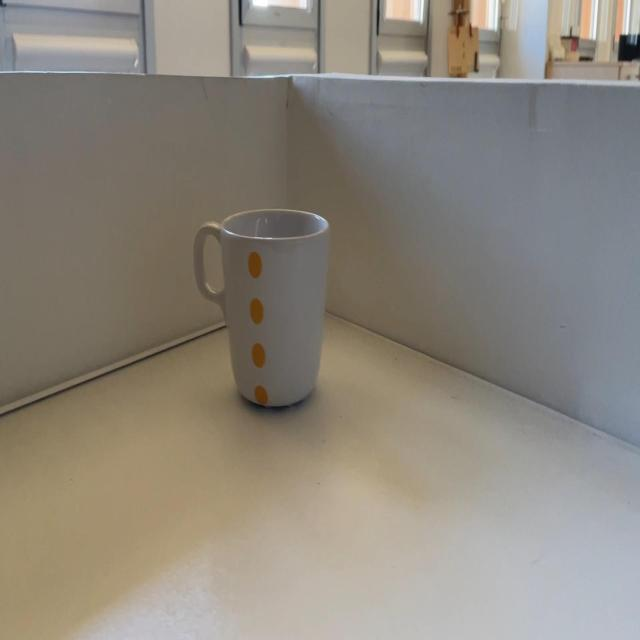cup: (190, 207, 333, 412)
